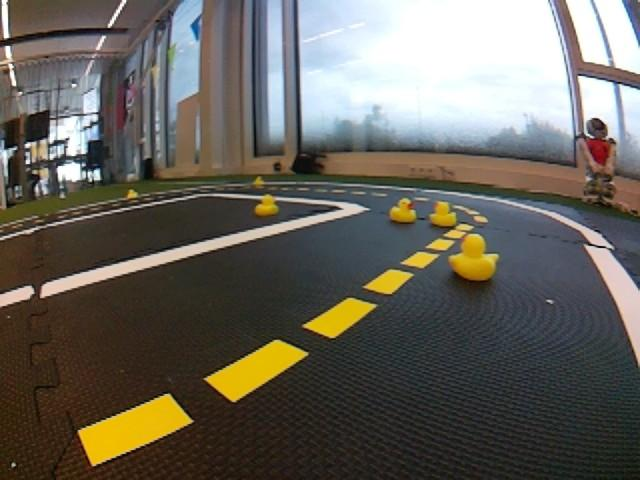Duckies: (448, 233, 500, 280), (389, 198, 416, 223), (430, 202, 457, 227), (255, 194, 279, 216), (127, 189, 138, 198), (254, 176, 265, 185)
